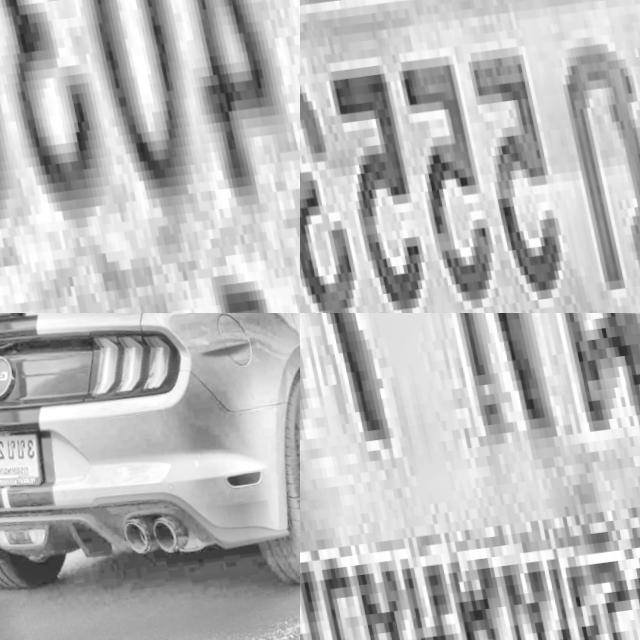license-plate: (300, 313, 640, 640), (300, 0, 640, 313), (0, 0, 300, 313), (0, 421, 42, 496)
